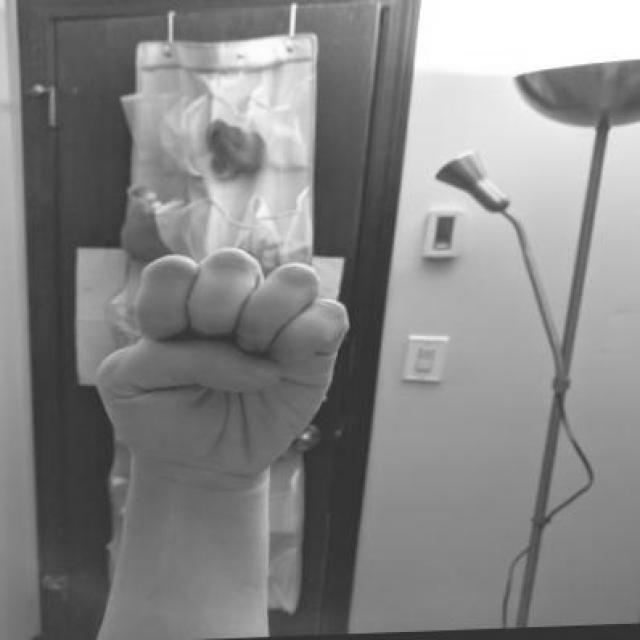E: (90, 243, 359, 489)
